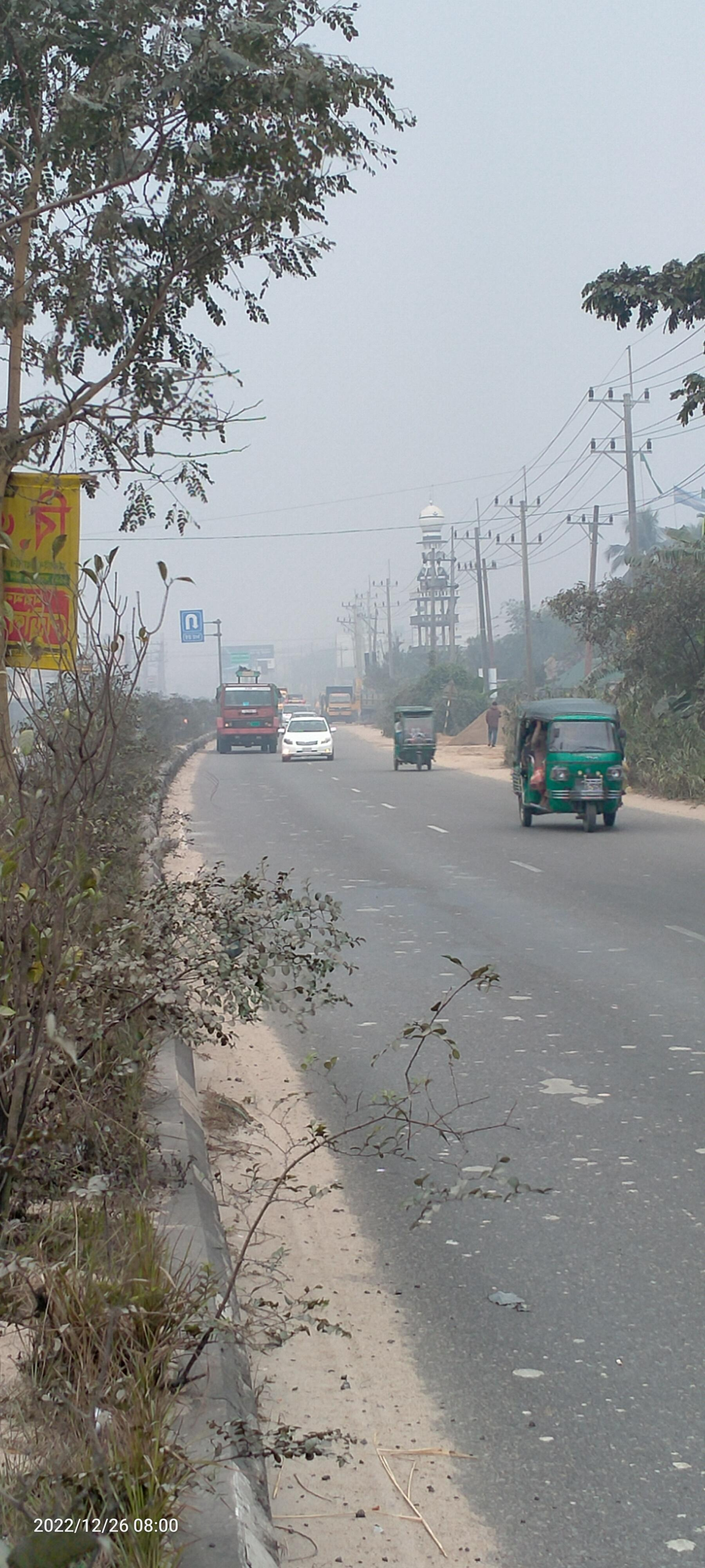Car: (383, 697, 455, 782), (276, 707, 338, 771)
Truck: (209, 668, 292, 769), (321, 678, 362, 723)
